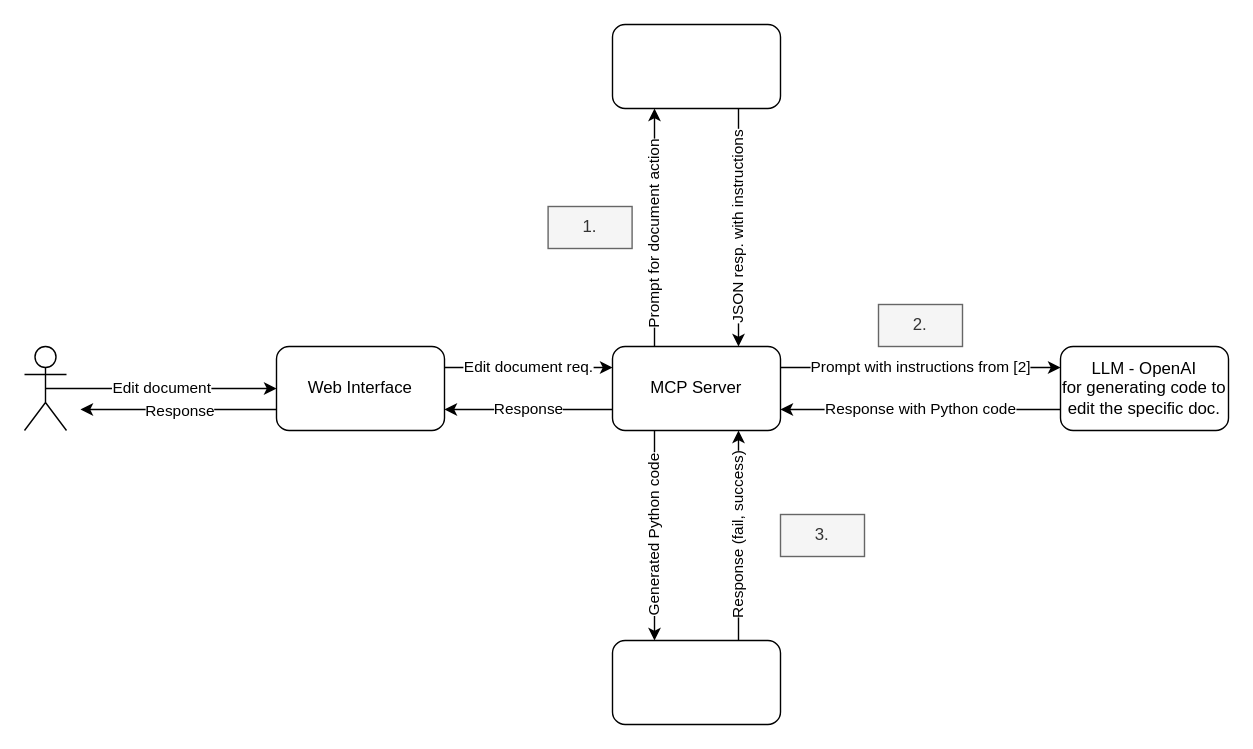
The diagram is 1253 pixels wide and 749 high, and some of its shapes have lost their labels. Each missing label, with the centre of its shape:
"Docker for executing Python code to edit the document" goes at (695,681).
"LLM - OpenAI for getting specific action on document" goes at (695,65).
"User" goes at (44,387).
